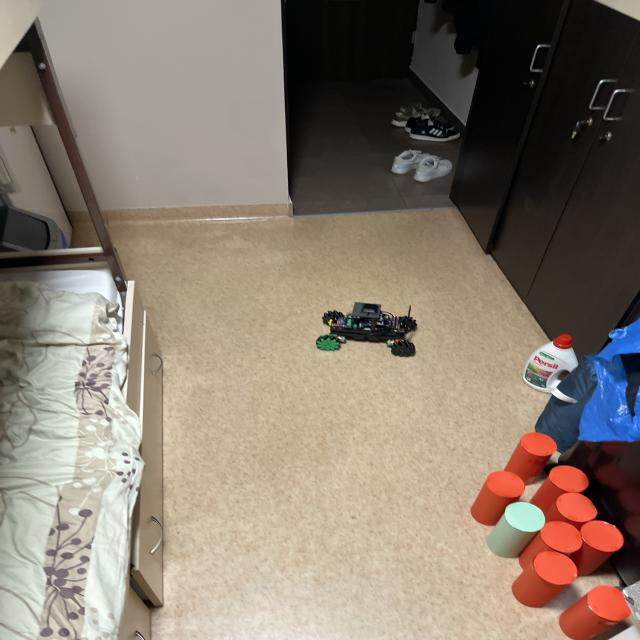robot: (316, 302, 417, 357)
